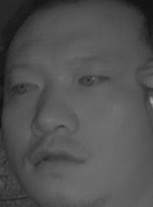eye: (76, 69, 110, 92), (9, 77, 41, 97)
mouth: (26, 141, 93, 176)
